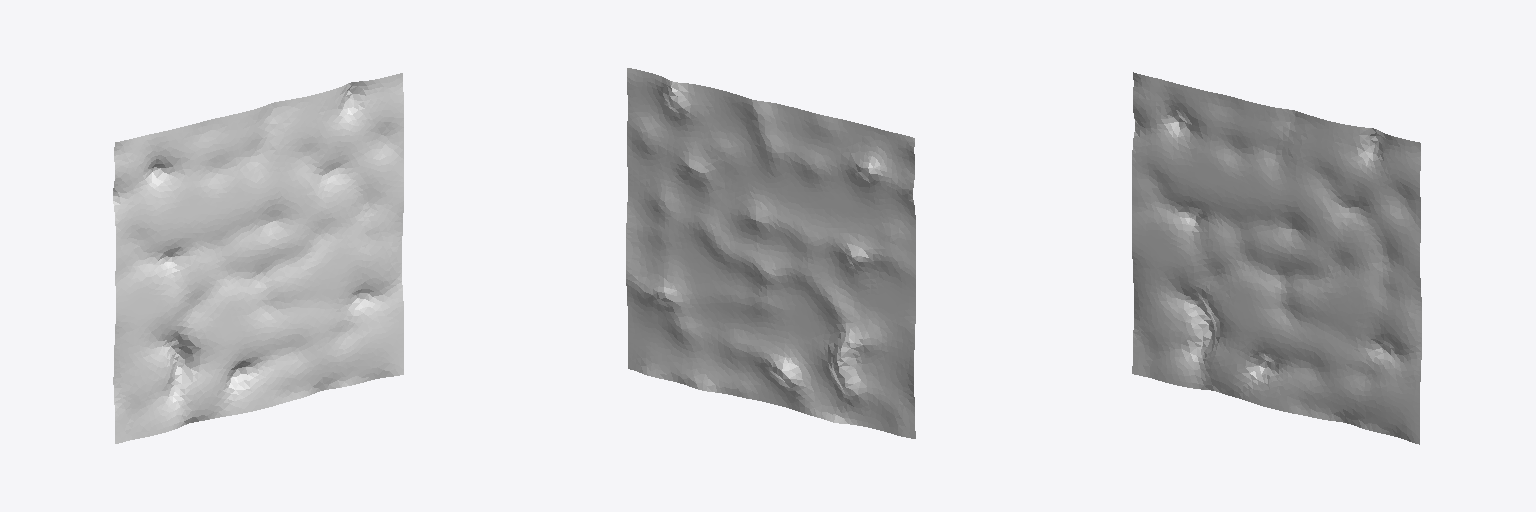
File: TriangleMesh.obj
3 renders of one model, left to right at view 1: azimuth 30°, elevation 25°; view 2: azimuth 150°, elevation 25°; view 3: azimuth 330°, elevation 25°, orthographic.
Visible parts, largest first — view 1: TriangleMesh; view 2: TriangleMesh; view 3: TriangleMesh.
Boxes of the visible parts, x1=… form: TriangleMesh: x1=113, y1=73, x2=403, y2=443; TriangleMesh: x1=626, y1=68, x2=915, y2=438; TriangleMesh: x1=1132, y1=72, x2=1421, y2=444.
Size of the model in its own units: 1000 by 1000 by 48.11.